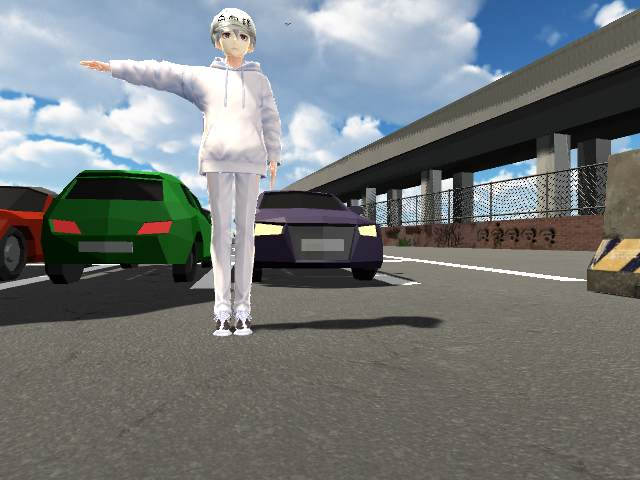singleP_left: (79, 6, 286, 337)
